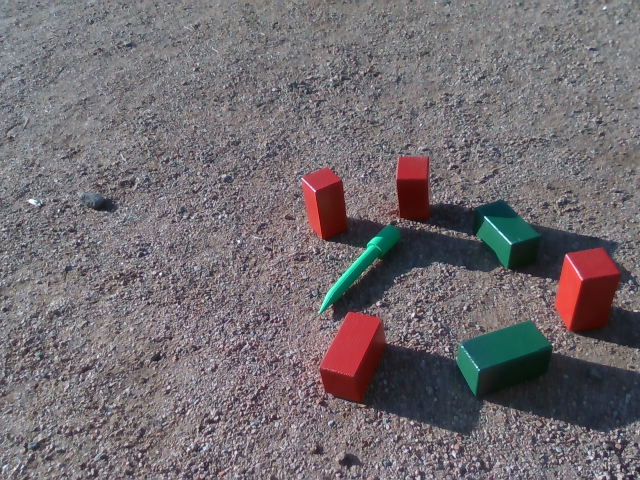Probe: (317, 223, 401, 314)
